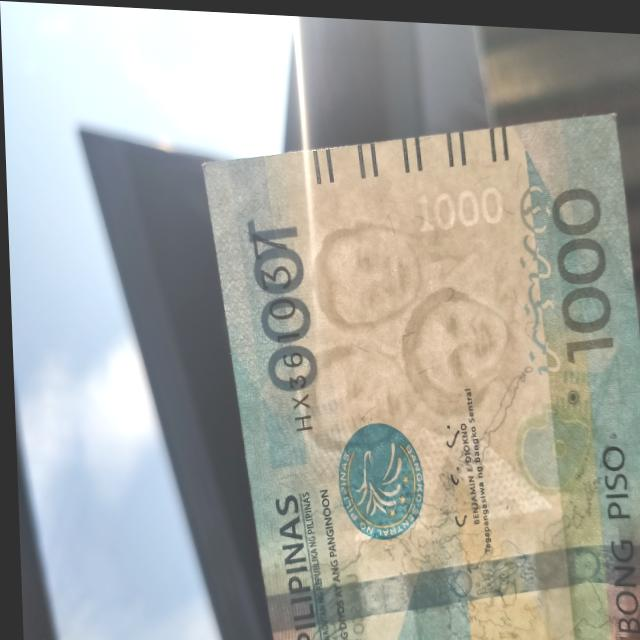see_through_mark: (515, 167, 559, 374)
value_watermark: (407, 165, 508, 237)
watermark: (296, 216, 516, 457)
